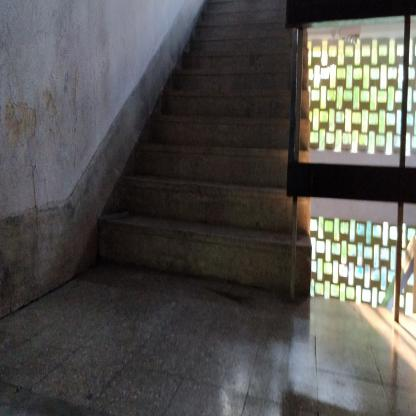stairs: (137, 144, 313, 309)
